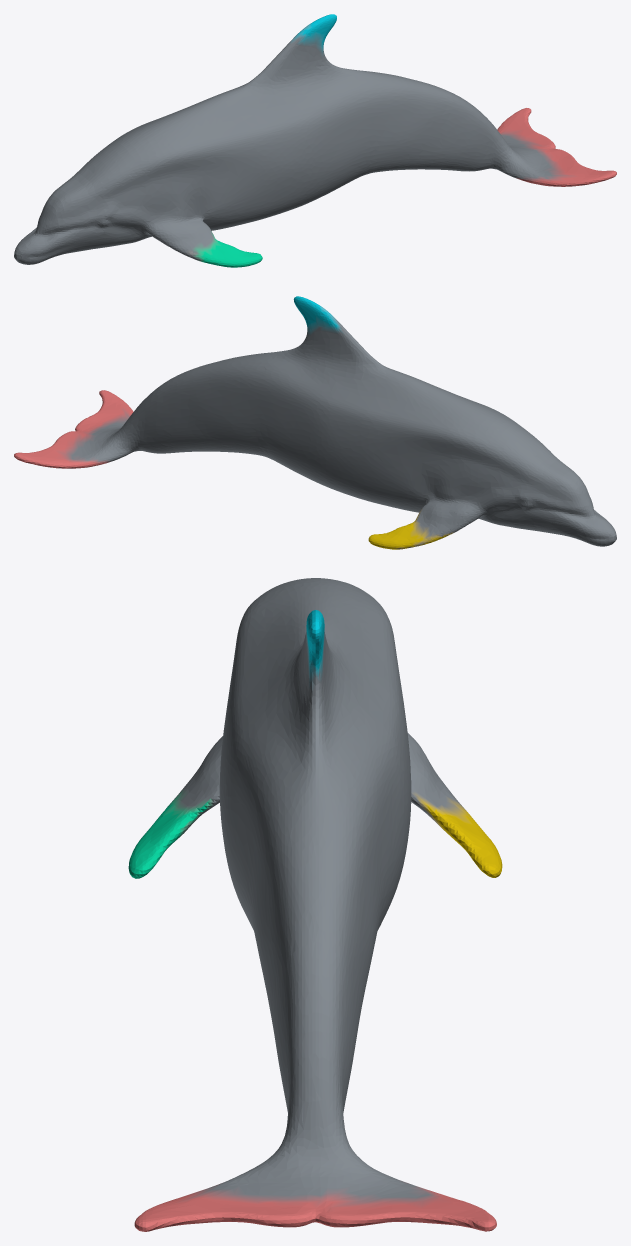
File: 01_segmented_mesh.glb
3 renders of one model, top to bottom at view 1: azimuth 30°, elevation 25°; view 2: azimuth 150°, elevation 25°; view 3: azimuth 270°, elevation 25°, orthographic. The views are drawn at different scales.
Parts seen in each view (by area): view 1: world; view 2: world; view 3: world.
Part boxes in pixels (x1,y1,x2,y2): world: [14, 14, 616, 267]; world: [14, 296, 616, 549]; world: [128, 578, 502, 1231].
Bounding box in the file's own units: 1.81 × 0.6137 × 0.523.
